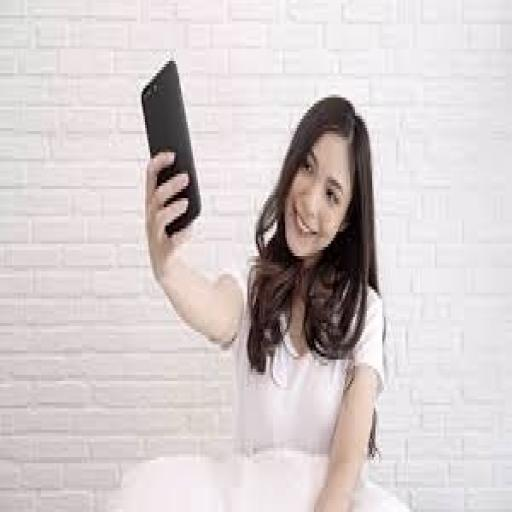texting: (138, 88, 393, 509)
